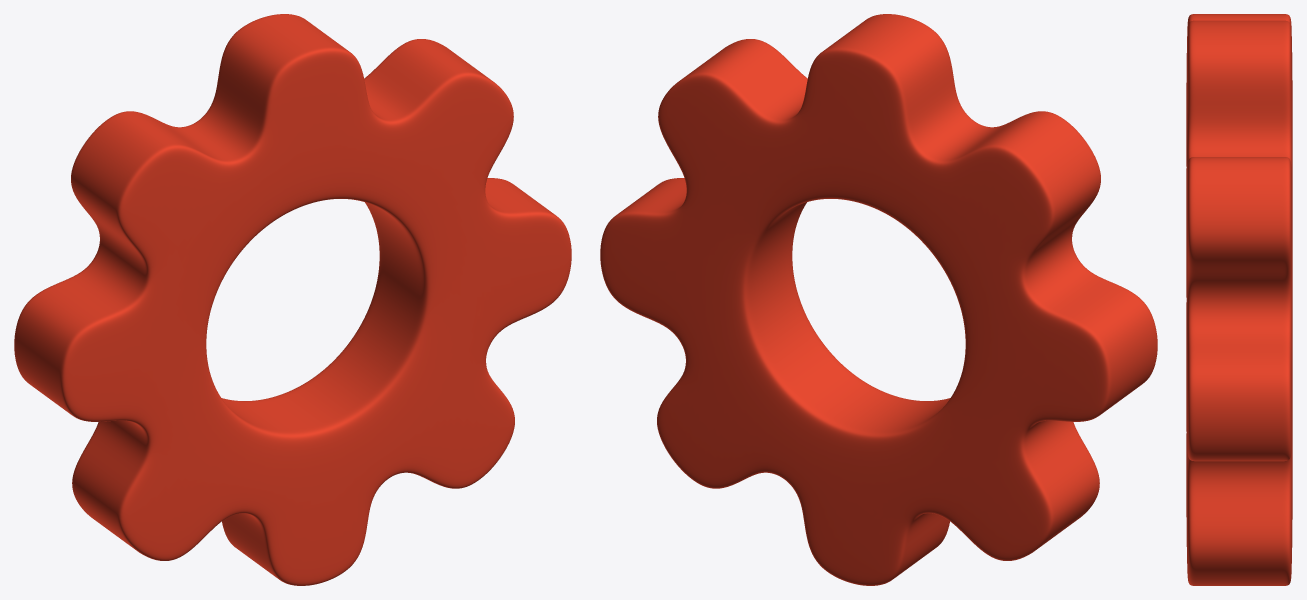
File: setting.glb
The picture shows the model from 3 angles, left to right: view 1: azimuth 30°, elevation 25°; view 2: azimuth 150°, elevation 25°; view 3: azimuth 270°, elevation 25°; orthographic projection.
Parts seen in each view (by area): view 1: Circle; view 2: Circle; view 3: Circle.
Part boxes in pixels (bbox=[...]): Circle: bbox=[14, 14, 571, 585]; Circle: bbox=[600, 14, 1157, 585]; Circle: bbox=[1186, 14, 1292, 585].
Size of the model in its own units: 1.9 by 1.9 by 0.3378.
